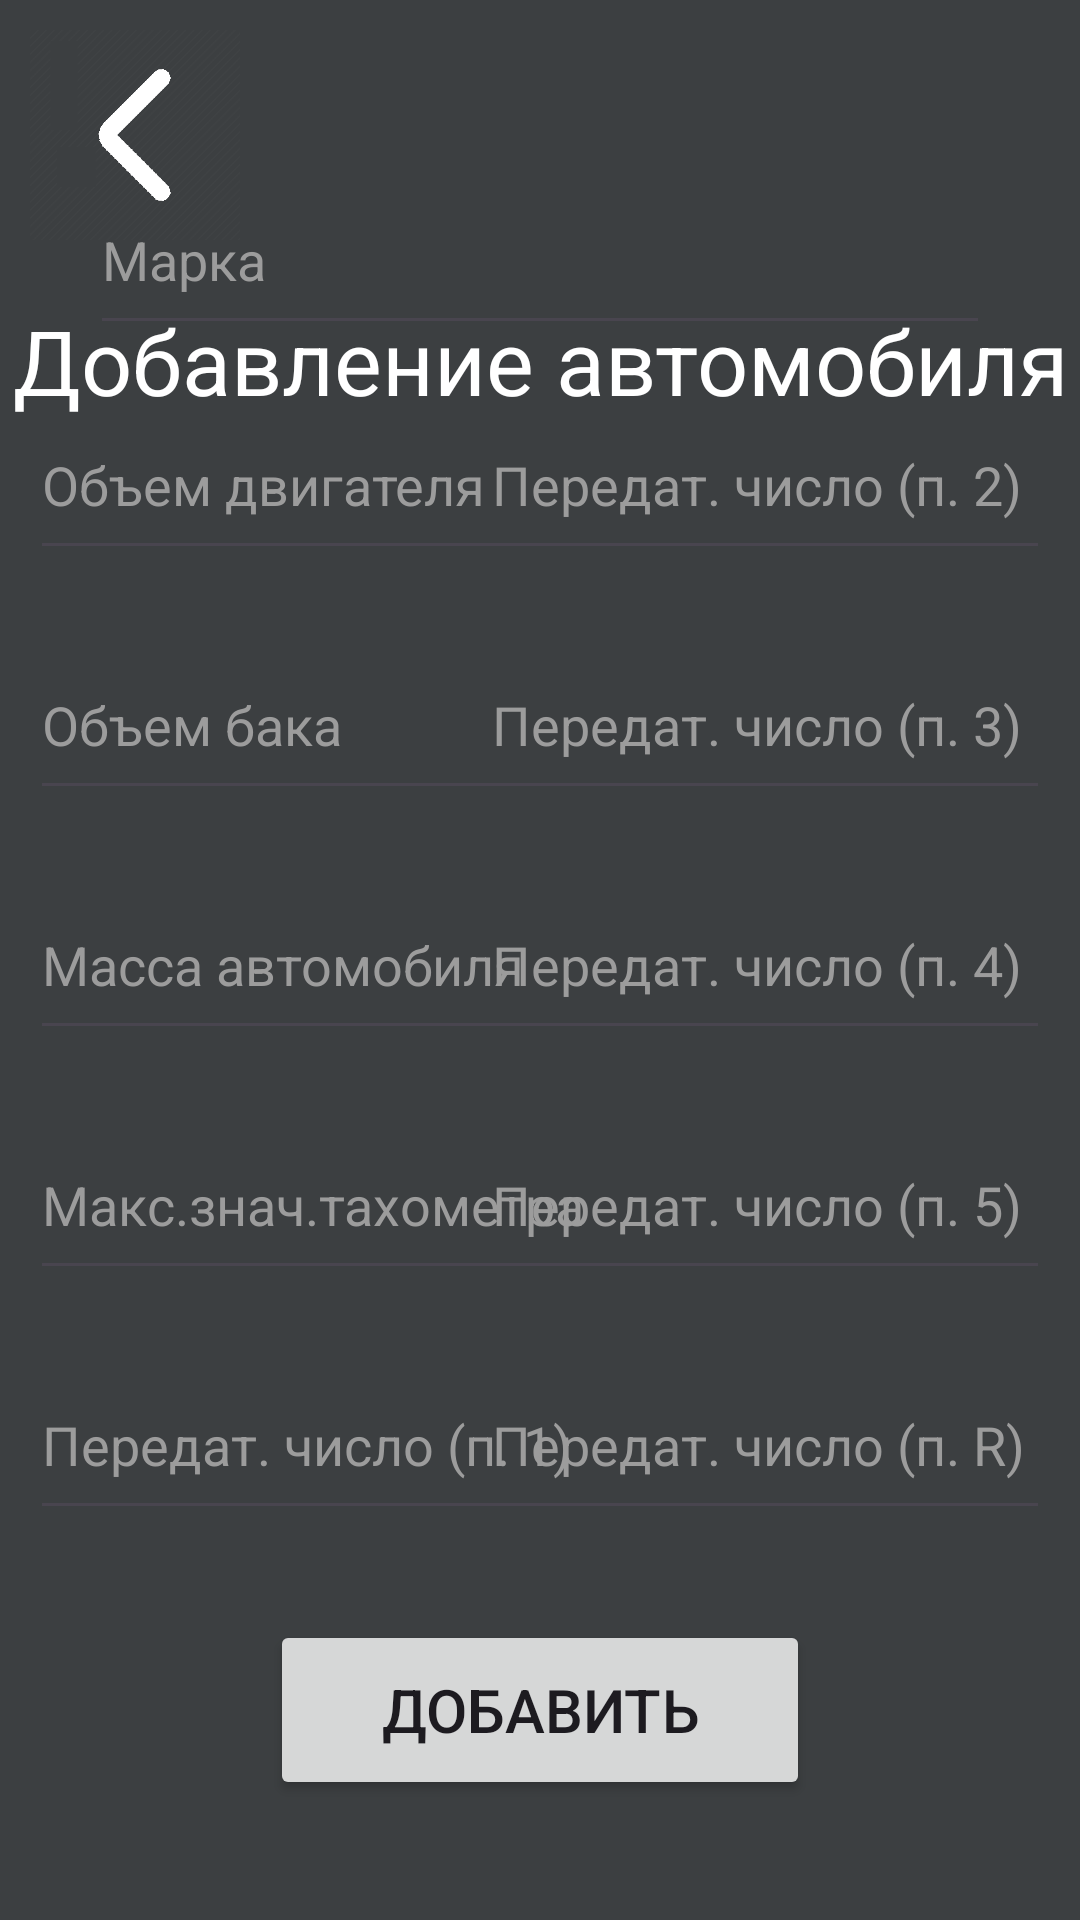

Icon click points for this 1080 x 1920 phone screenshot, format (x,y):
arrow: (134,135)
